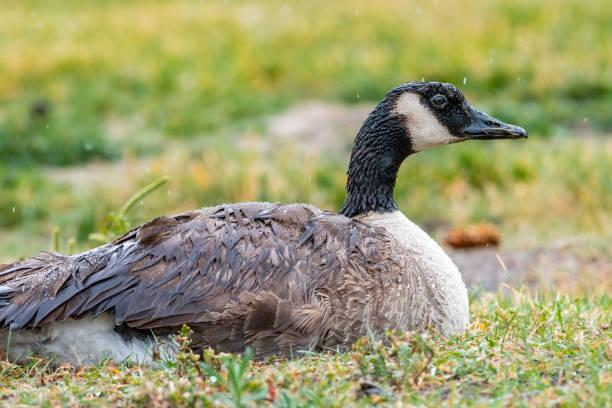Canadian-Goose: (0, 81, 528, 356)
